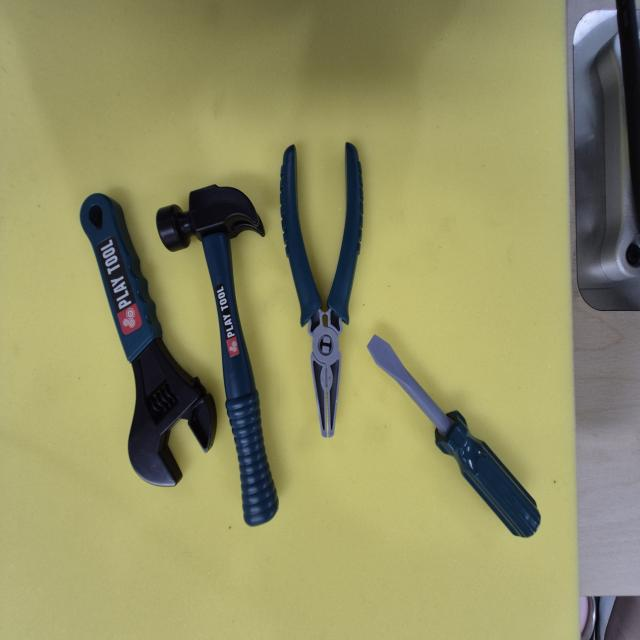hammer: (148, 169, 292, 538)
pliers: (264, 139, 379, 446)
screwdriver: (358, 318, 560, 572)
wrench: (58, 181, 230, 501)
